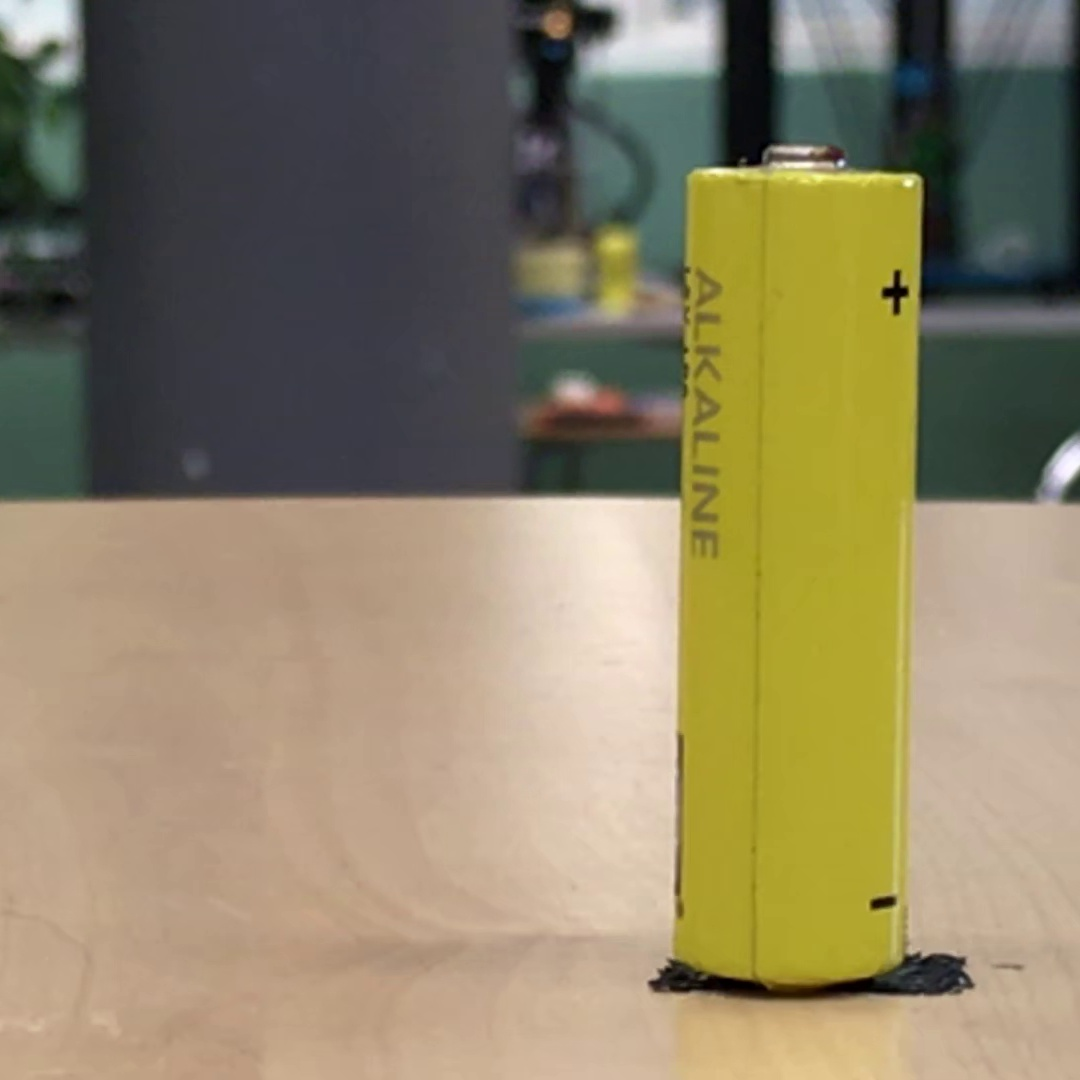keyword: (686, 260, 726, 564)
